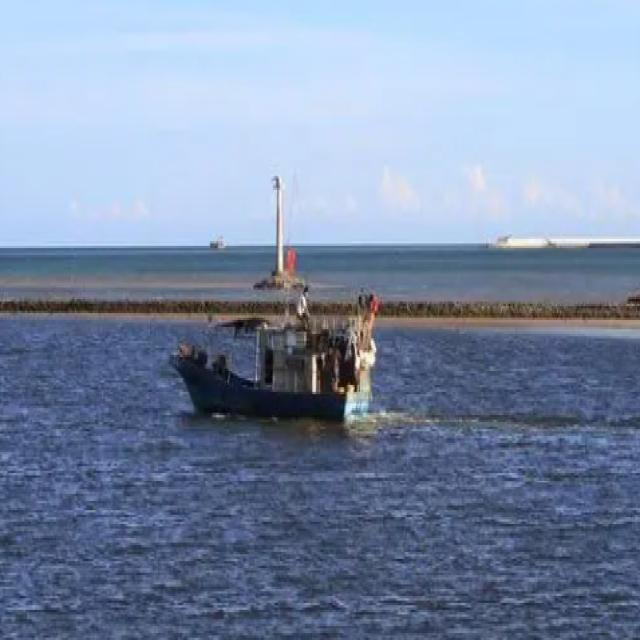fishing boat: (165, 289, 382, 425)
